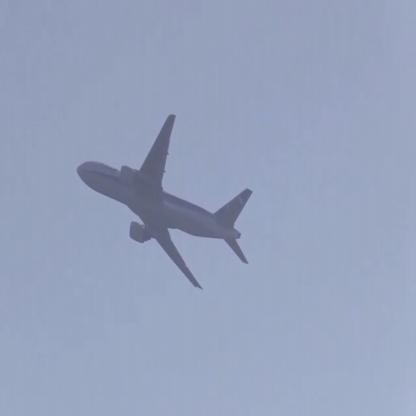CIV_Plane: (74, 112, 256, 291)
